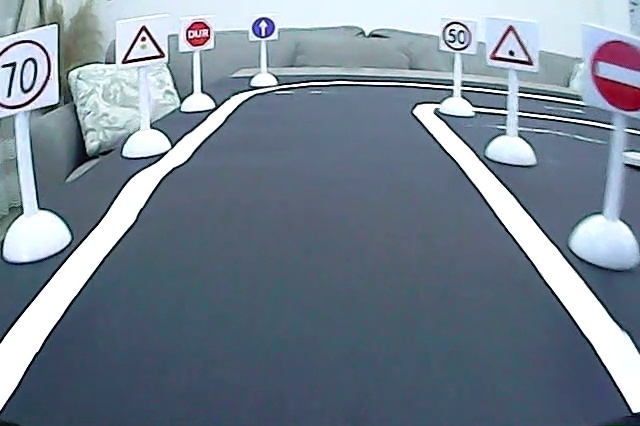do not enter: (584, 32, 640, 117)
green light: (486, 21, 537, 68)
red light: (120, 20, 170, 66)
speed limit 50: (440, 20, 474, 53)
speed limit 70: (1, 38, 56, 114)
stop sign: (184, 18, 214, 51)
